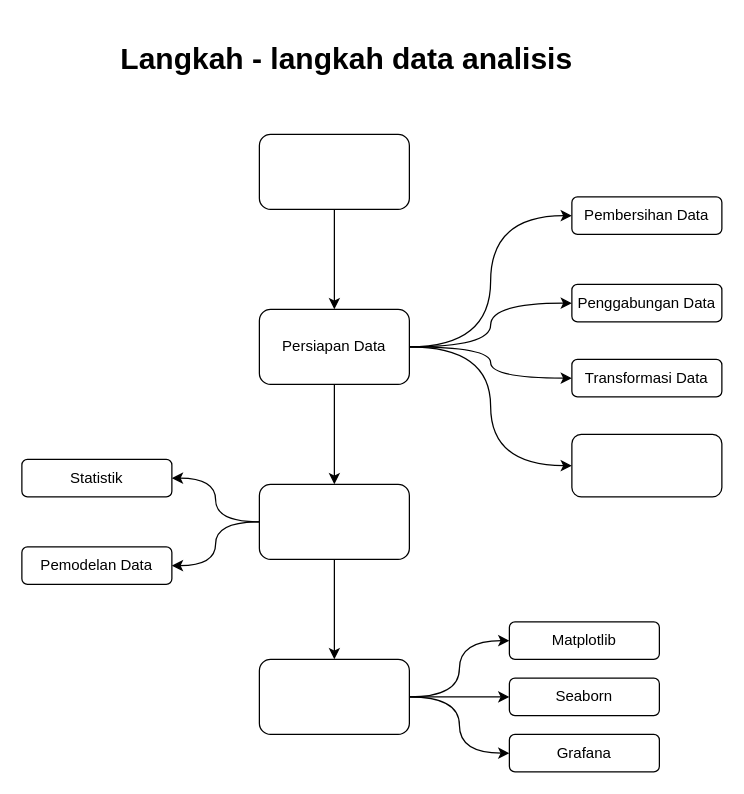
Image size: 744x794. Some labels were removed from this diagram. Here are the shapes that lost their labels. From the top down, the centre of each, then its label:
At (333,171): "Pengumpulan Data".
At (646,465): "Penyesuaian Struktur Data".
At (333,521): "Penafsiran dan Pengambilan Keputusan".
At (333,696): "Visualisasi Data".
